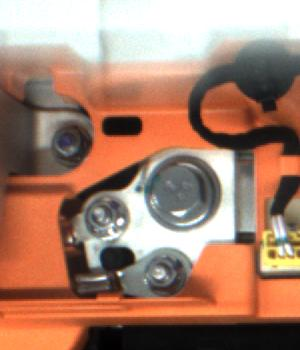nut_b: (145, 147, 222, 236)
